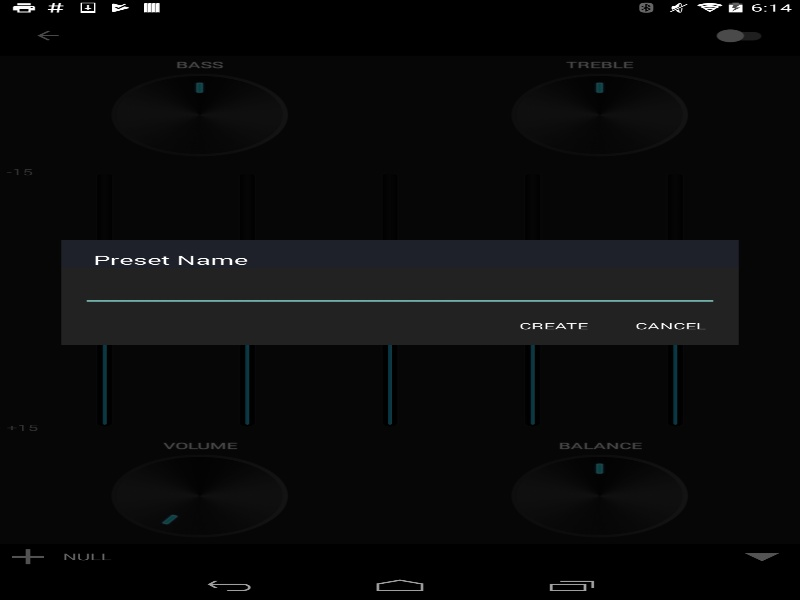Button: (494, 310, 612, 340), (612, 310, 729, 340)
Input: (81, 277, 718, 305)
